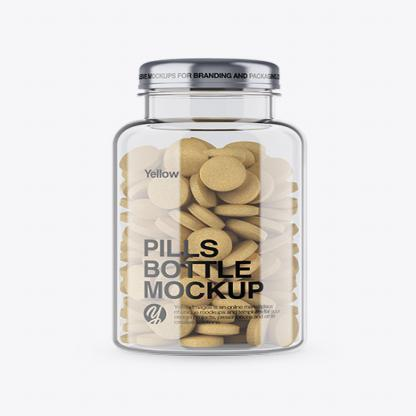jar: (114, 59, 305, 354)
